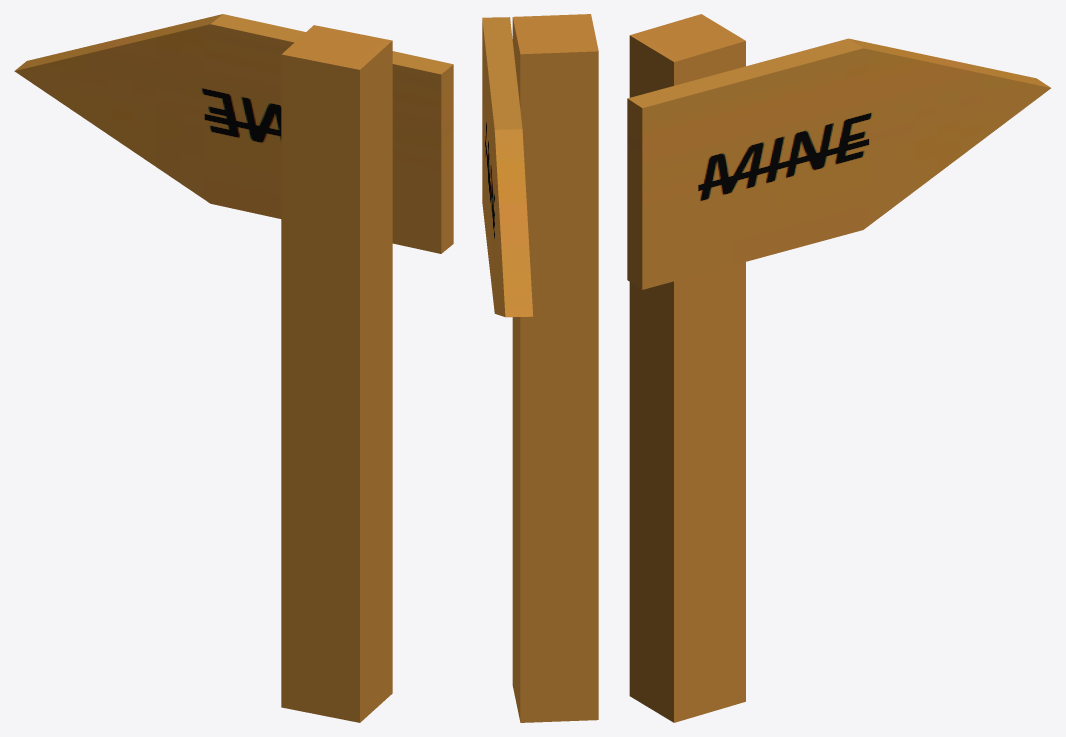
Rendered from Tabela.fbx.
The picture shows the model from 3 angles, left to right: view 1: azimuth 30°, elevation 25°; view 2: azimuth 150°, elevation 25°; view 3: azimuth 270°, elevation 25°; orthographic projection. The views are drawn at different scales.
Visible parts, largest first — view 1: Cube.001; view 2: Cube.001; view 3: Cube.001.
Boxes of the visible parts, bbox=[...] form: Cube.001: bbox=[14, 14, 453, 722]; Cube.001: bbox=[482, 14, 598, 722]; Cube.001: bbox=[627, 14, 1050, 722].
Size of the model in its own units: 285 by 727 by 423.
